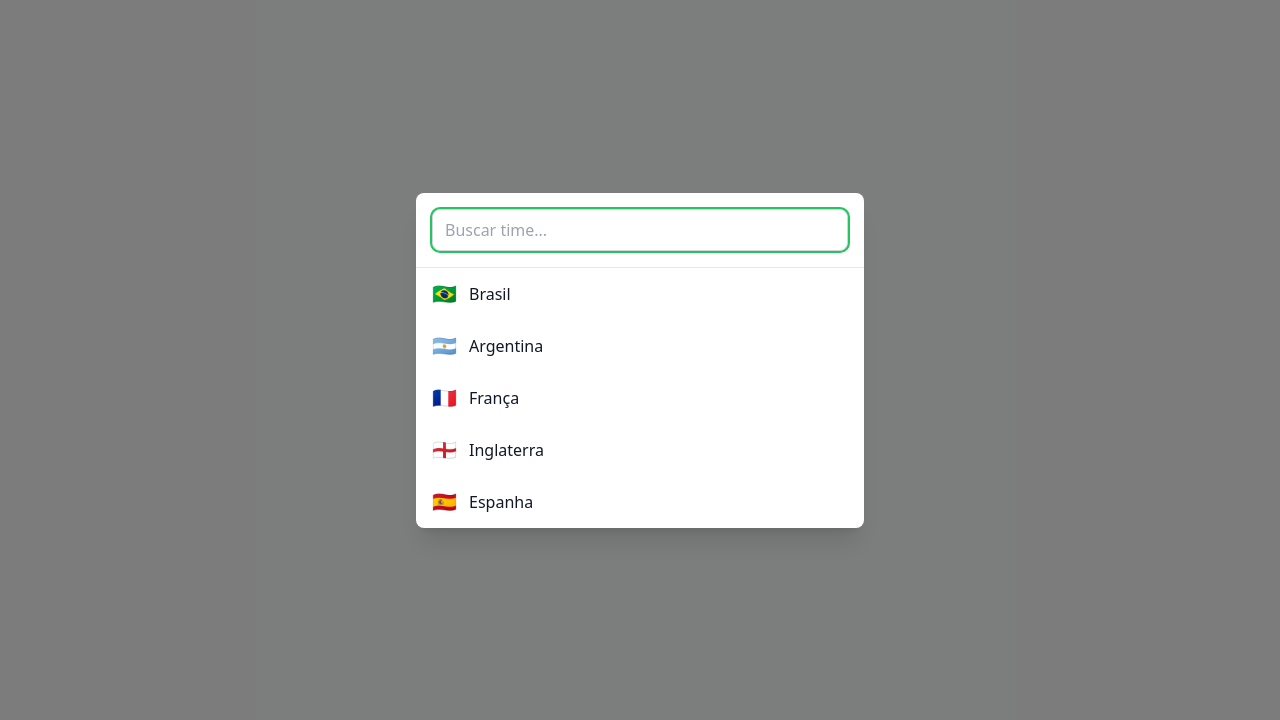
Test: TeamPicker › filters list to Brasil when search is "bras" (case-insensitive)
Type "bras" into the field with placeholder "Buscar time..." at (640, 230), box [432,208,848,250]
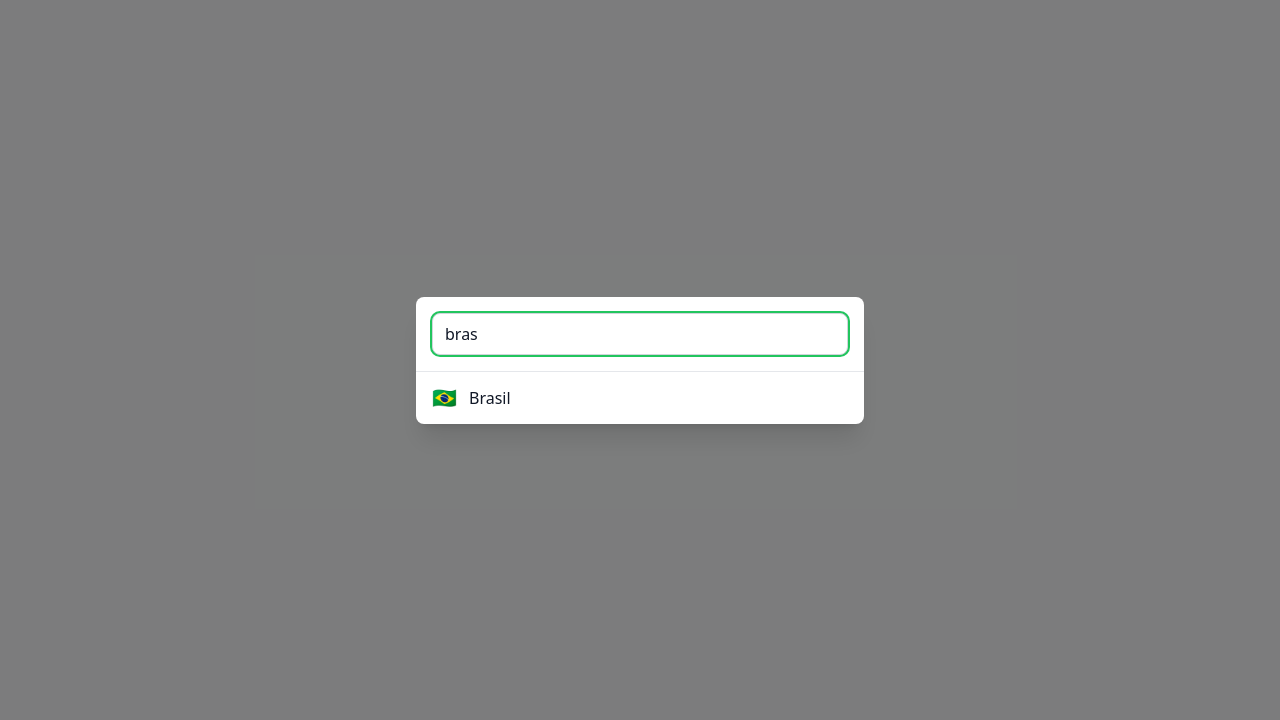
Expected: the text "Brasil" is shown, [469,386,511,410]
Expected: the button "Argentina" is gone
Expected: the button "França" is gone
